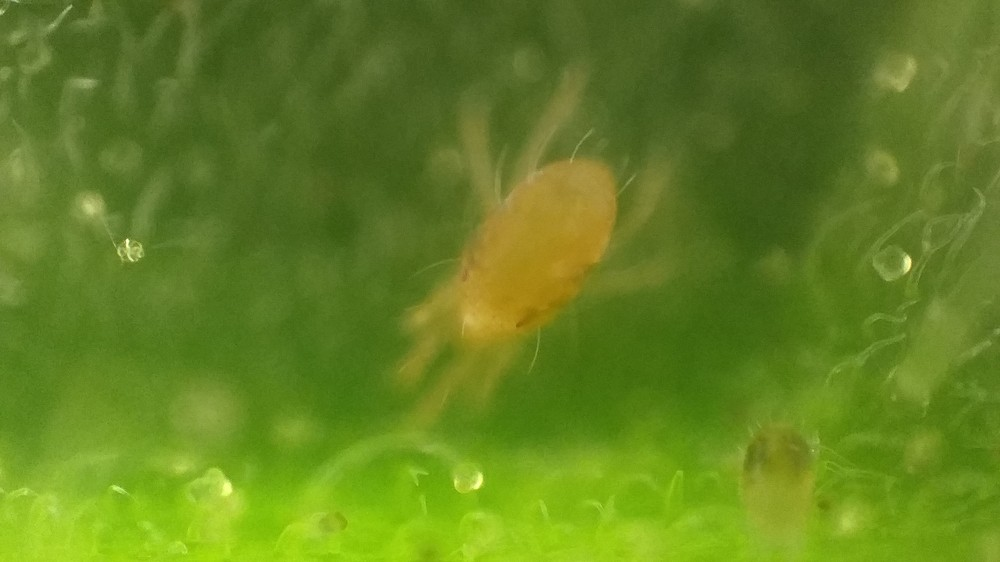Aracnido Rojo: (368, 60, 723, 431)
